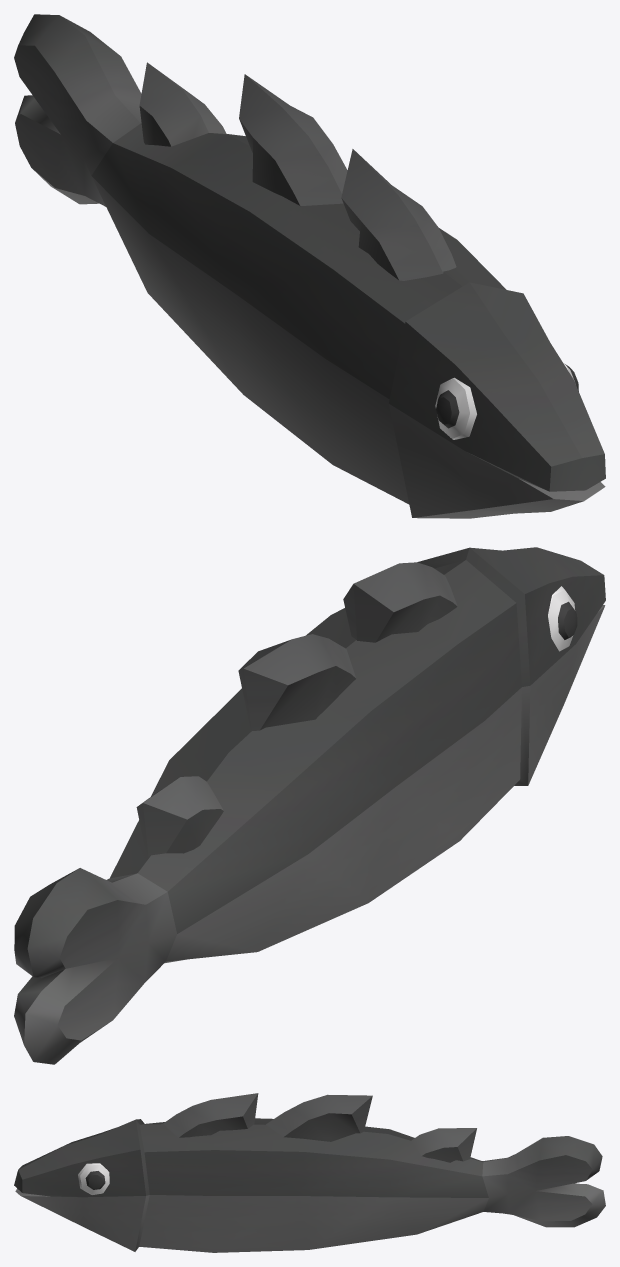
Rendered from Fish_2_C.glb.
The picture shows the model from 3 angles, top to bottom: view 1: azimuth 30°, elevation 25°; view 2: azimuth 150°, elevation 25°; view 3: azimuth 270°, elevation 25°; orthographic projection. The views are drawn at different scales.
Visible parts, largest first — view 1: Fish_2_C; view 2: Fish_2_C; view 3: Fish_2_C.
Boxes of the visible parts, x1,y1,x2,y2 form: Fish_2_C: (14,14,605,518); Fish_2_C: (14,547,605,1064); Fish_2_C: (14,1093,605,1252).
Size of the model in its own units: 0.1094 by 0.1904 by 0.6612.
1 material, 1 textured.
